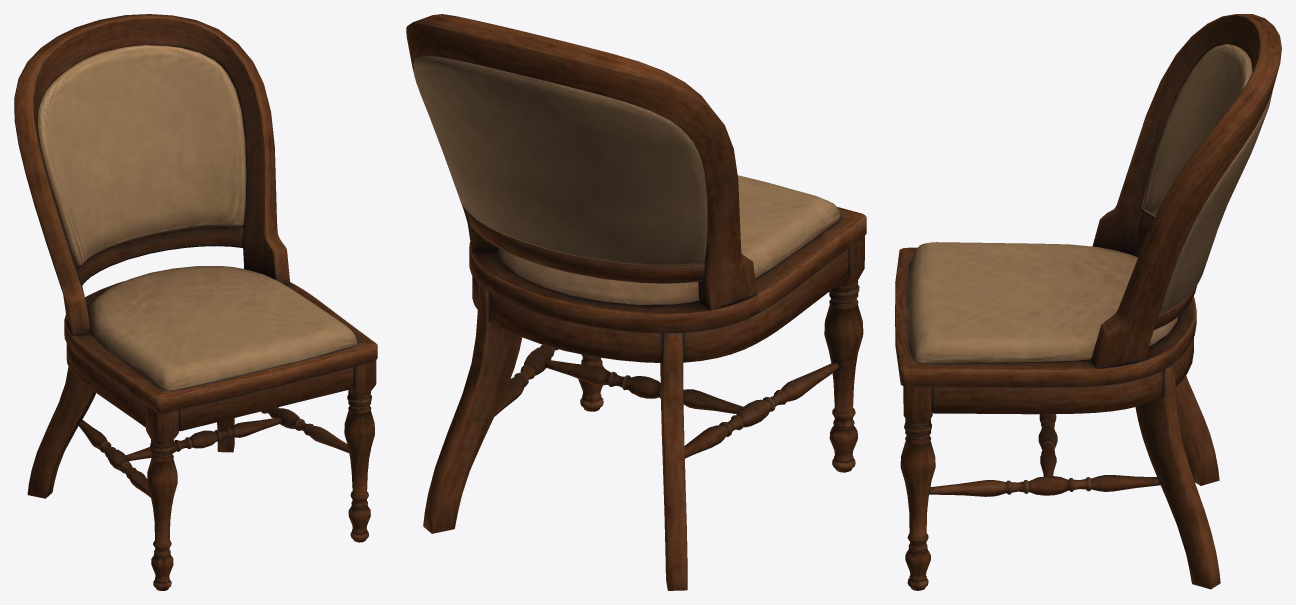
Rendered from chair-15.glb.
3 views of the same model, side by side, from view 1: azimuth 30°, elevation 25°; view 2: azimuth 150°, elevation 25°; view 3: azimuth 270°, elevation 25° (orthographic). The views are drawn at different scales.
Visible parts, largest first — view 1: Chair; view 2: Chair; view 3: Chair.
Boxes of the visible parts, bbox=[...] form: Chair: bbox=[14, 14, 377, 590]; Chair: bbox=[406, 14, 866, 590]; Chair: bbox=[895, 14, 1281, 590].
Size of the model in its own units: 5.18 by 8.68 by 6.21.
Materials: 1 (1 with a texture image).
